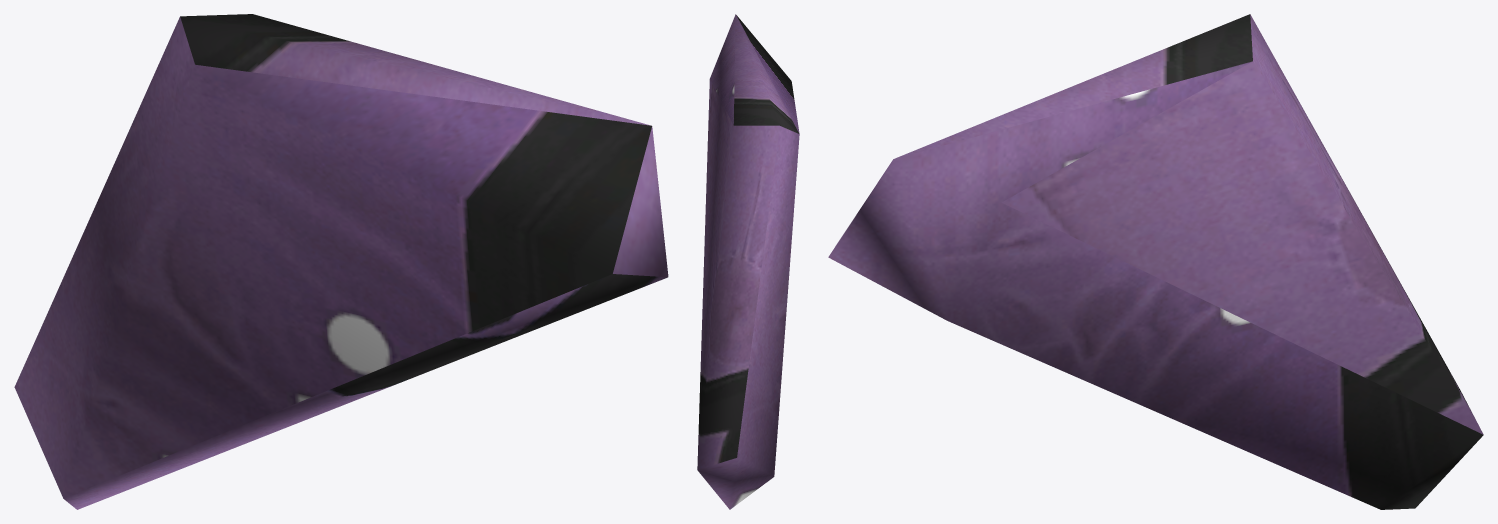
File: dest_nt_nuked_female_05_arm_right_LOD3.obj
3 views of the same model, side by side, from view 1: azimuth 30°, elevation 25°; view 2: azimuth 150°, elevation 25°; view 3: azimuth 270°, elevation 25° (orthographic). The views are drawn at different scales.
Visible parts, largest first — view 1: mtl_nt_2020_manne_fem01_dress2; view 2: mtl_nt_2020_manne_fem01_dress2; view 3: mtl_nt_2020_manne_fem01_dress2.
Boxes of the visible parts, x1,y1,x2,y2 form: mtl_nt_2020_manne_fem01_dress2: [14, 14, 668, 509]; mtl_nt_2020_manne_fem01_dress2: [697, 14, 799, 509]; mtl_nt_2020_manne_fem01_dress2: [828, 14, 1483, 509].
Size of the model in its own units: 23.29 by 38.14 by 45.41.
